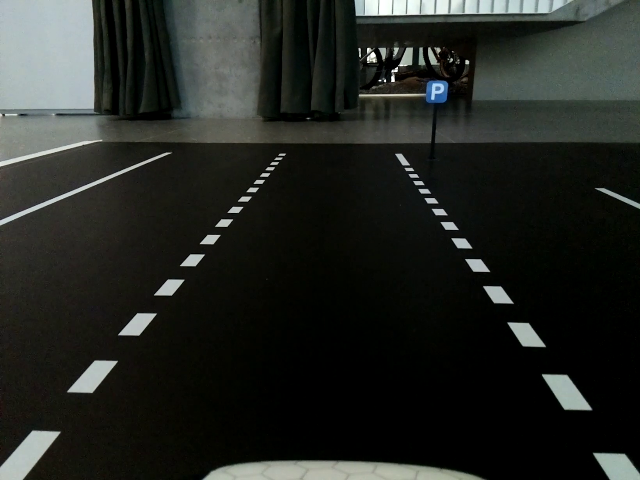park: (425, 80, 445, 103)
